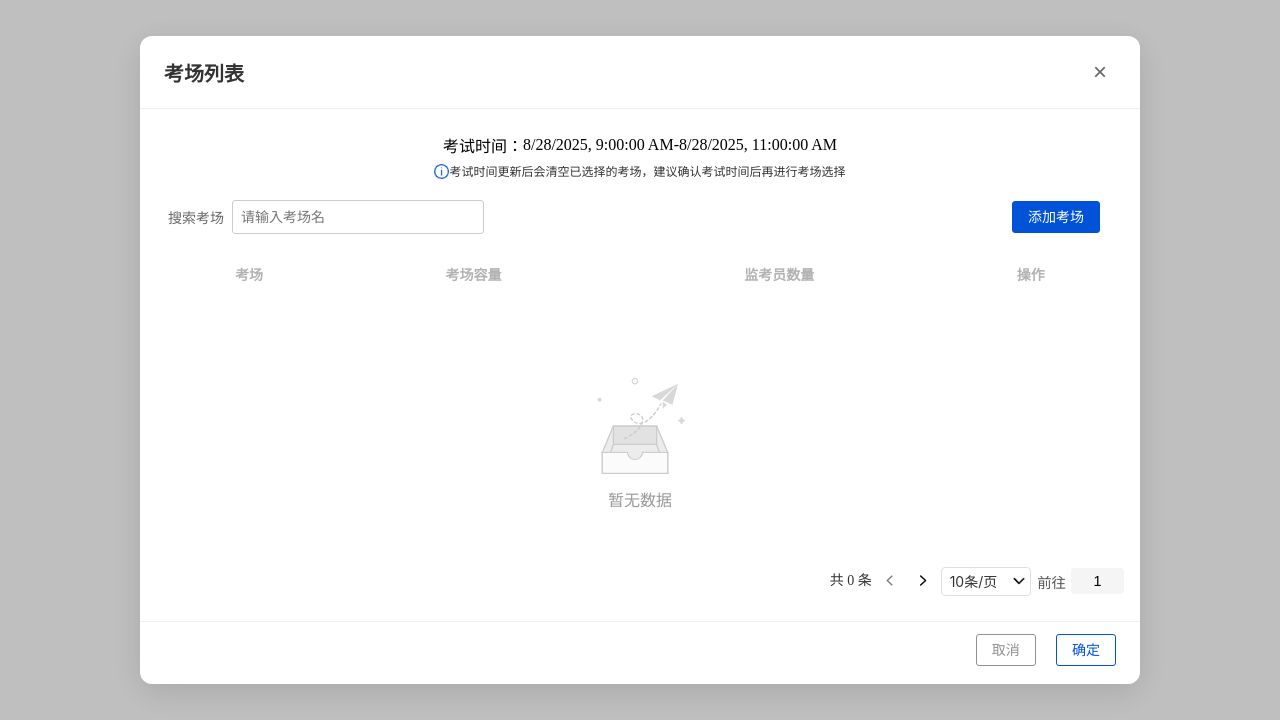
Test: ExaminationRoomSelectionPanel 组件测试 › 组件渲染 › 选择模式应该出现复选框
Step 1. Click the button "添加考场" → click(1056, 217), box [1012, 201, 1100, 233]
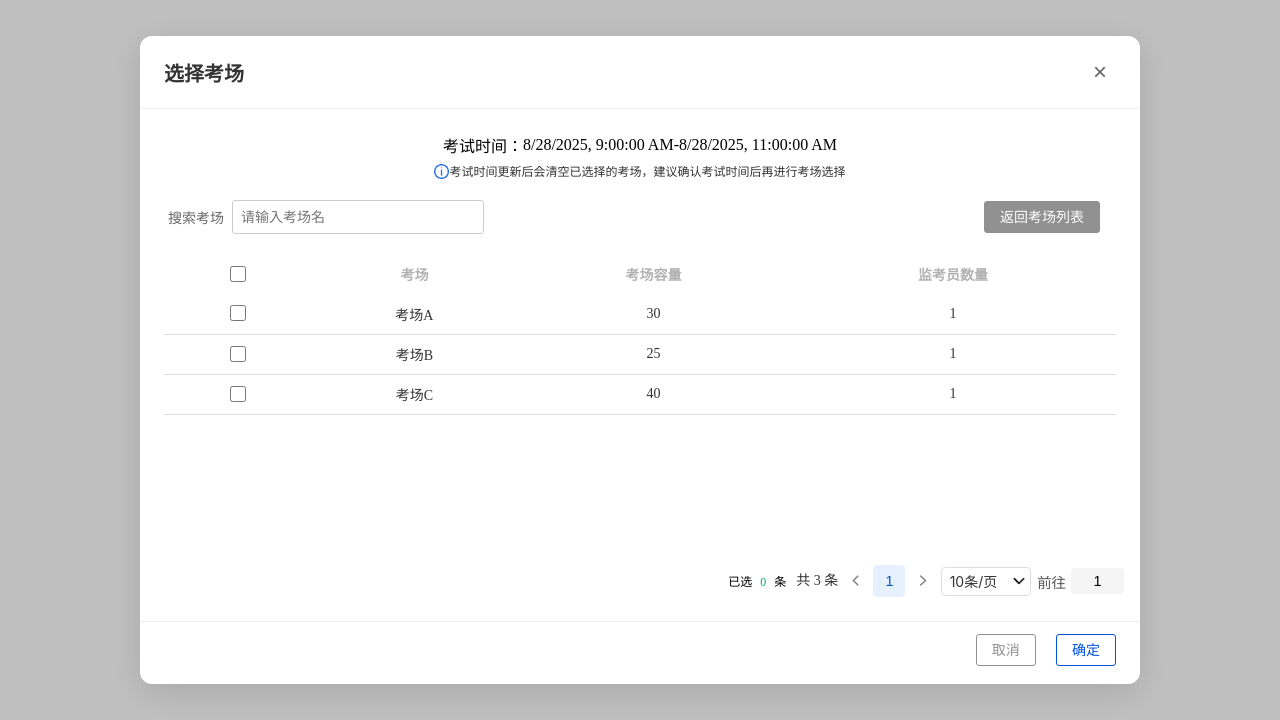
Check: the checkbox in the row of "考场容量" is shown, box [230, 266, 246, 282]
